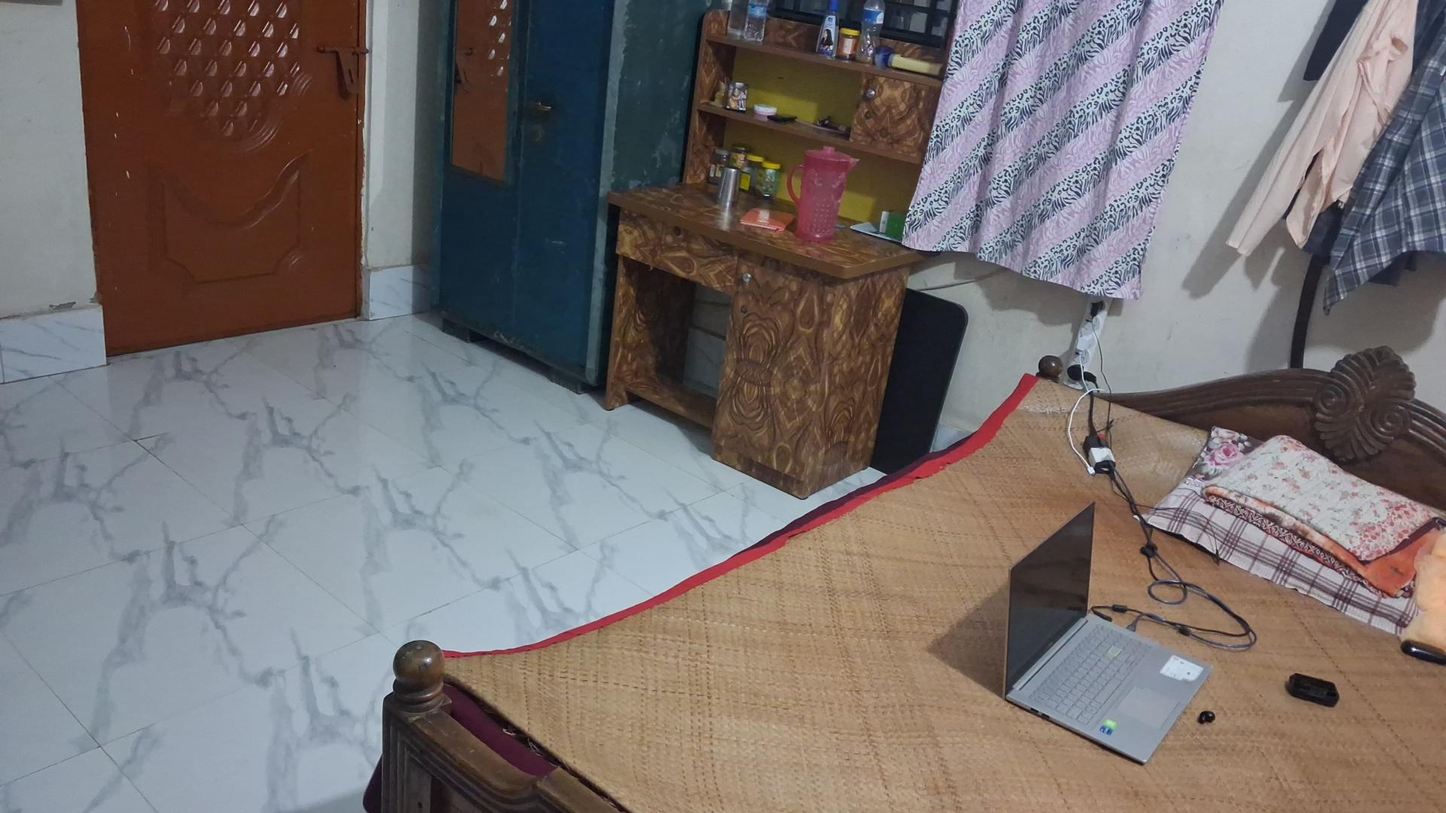Bottle: (858, 0, 883, 68), (814, 1, 841, 59), (887, 50, 943, 76)
Box: (877, 204, 905, 238)
Door: (74, 0, 374, 369)
Glass: (716, 166, 742, 210)
Jar: (757, 157, 781, 199), (707, 147, 728, 182), (841, 25, 859, 63), (742, 157, 764, 187), (727, 141, 749, 167)
Jug: (793, 145, 858, 244)
Laptop: (992, 508, 1217, 770)
Notebook: (741, 203, 793, 233)
Pillow: (1140, 428, 1446, 641)
